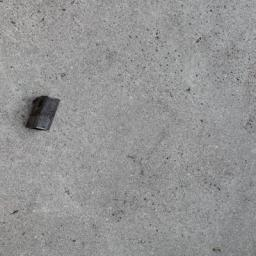FOD: (24, 93, 63, 136)
